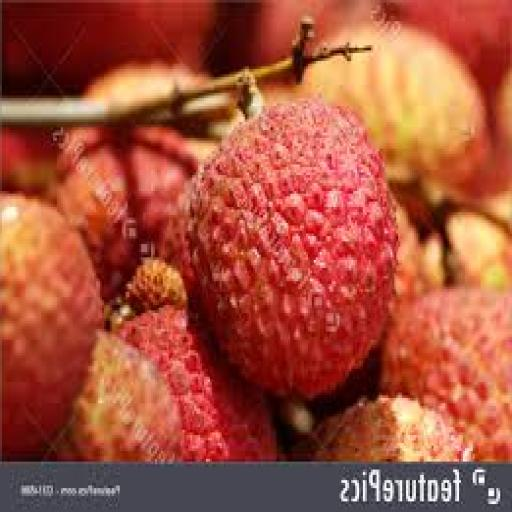lychee: (188, 101, 397, 397), (302, 24, 487, 188), (0, 194, 101, 458), (117, 306, 275, 461), (56, 128, 195, 299), (380, 290, 511, 461), (1, 0, 214, 92), (56, 332, 179, 461), (396, 0, 511, 98), (311, 396, 469, 461), (445, 210, 511, 289), (0, 128, 59, 198), (125, 258, 185, 313)
